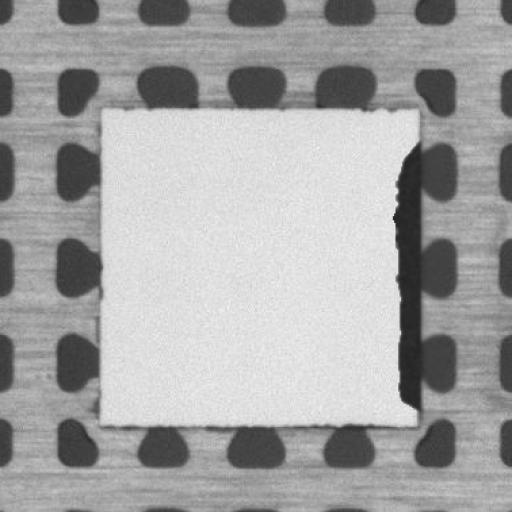DIE_BROKEN: (392, 131, 422, 419)
